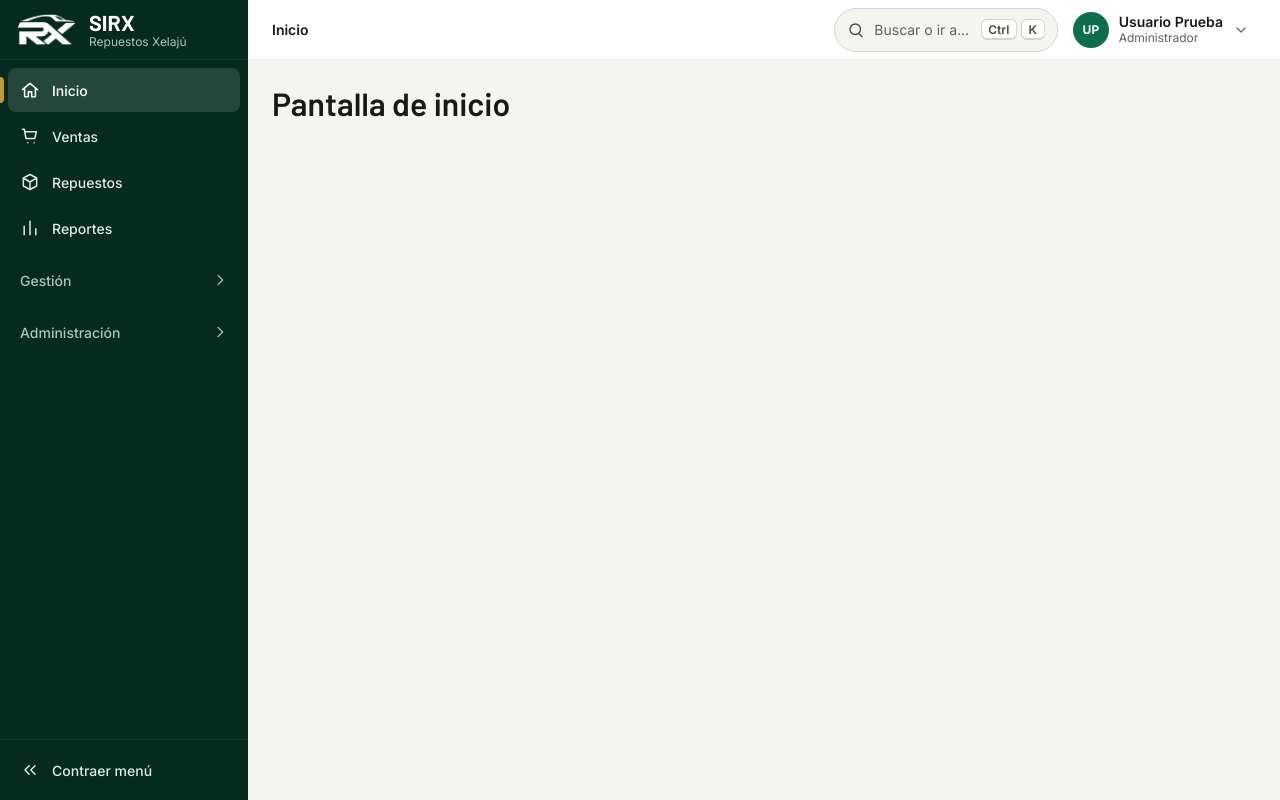
Scenario: AppLayout › los grupos secundarios del menú están plegados y se abren con su encabezado
Expected: the link "Compras" is not shown
Click the button "Gestión" at x=124, y=280, box [8,258,240,302]
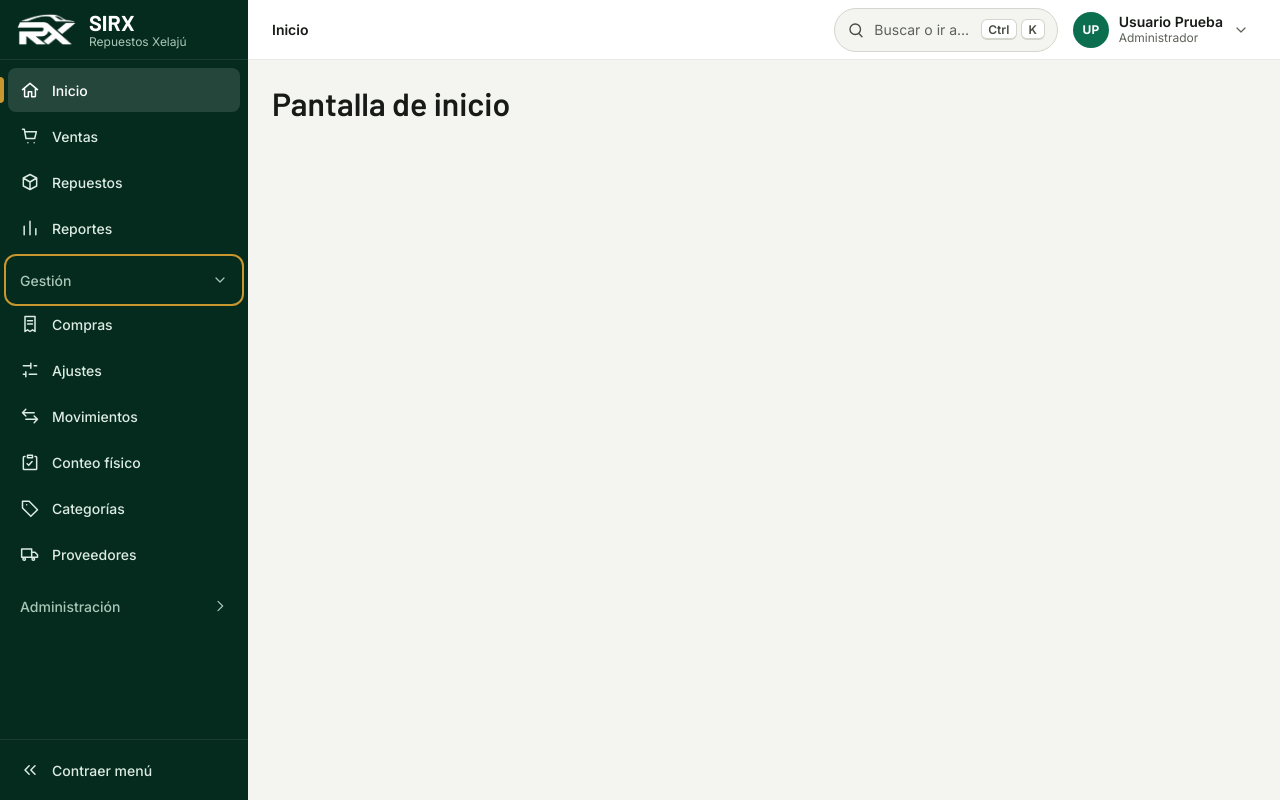
Now the button "Gestión" is expanded, box [8,258,240,302]
Now the link "Compras" is shown, box [20,314,113,334]
